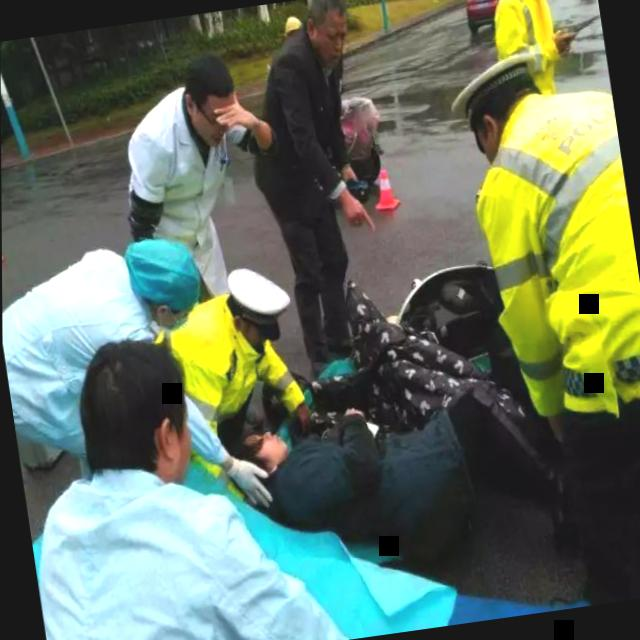Fall-Detected: (224, 348, 601, 588)
